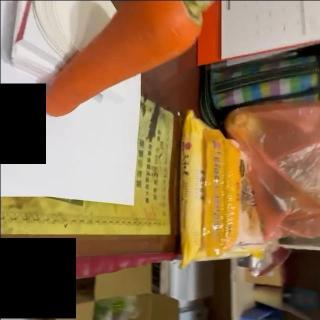carrot: (39, 0, 215, 118)
